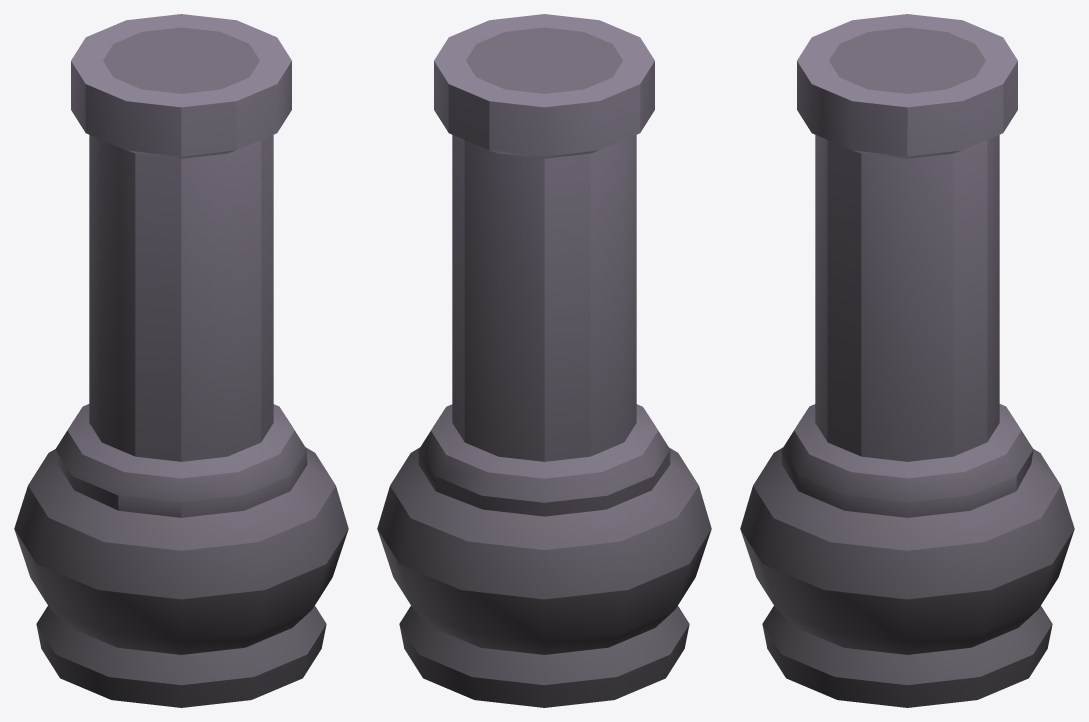
Rendered from pillar_4.glb.
The picture shows the model from 3 angles, left to right: view 1: azimuth 30°, elevation 25°; view 2: azimuth 150°, elevation 25°; view 3: azimuth 270°, elevation 25°; orthographic projection.
Visible parts, largest first — view 1: pillar_4; view 2: pillar_4; view 3: pillar_4.
Boxes of the visible parts, x1=… form: pillar_4: x1=14, y1=14, x2=348, y2=707; pillar_4: x1=377, y1=14, x2=711, y2=707; pillar_4: x1=740, y1=14, x2=1074, y2=707.
Bounding box in the file's own units: 1.11 × 2.15 × 1.11.
1 material, 1 textured.
